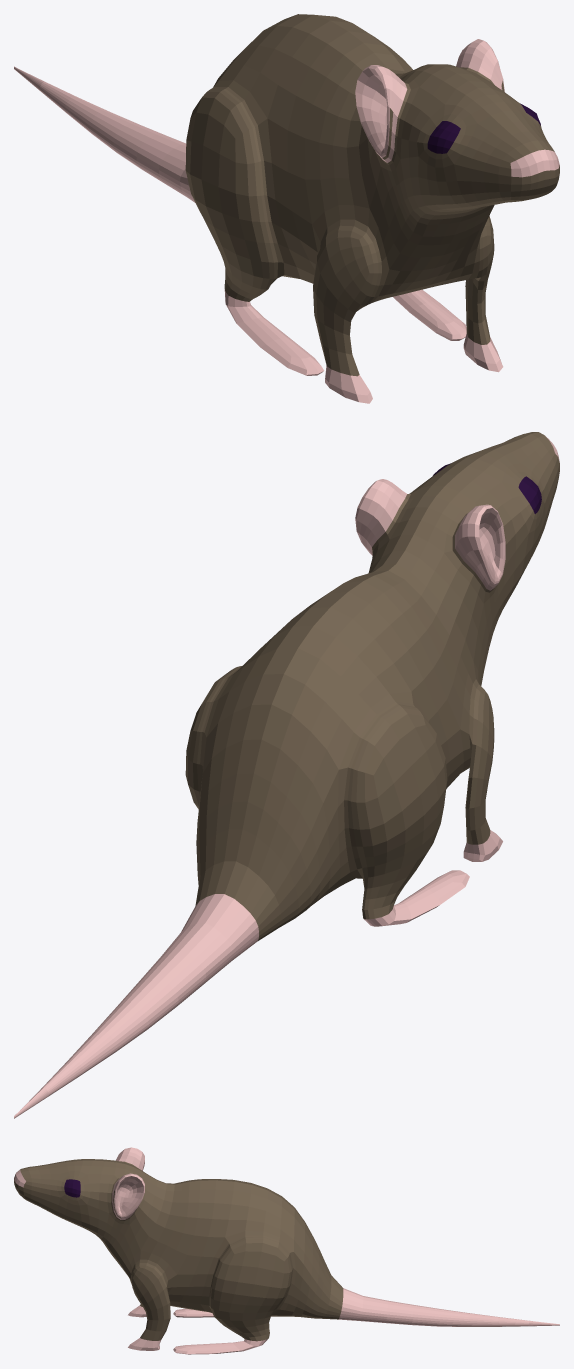
Rendered from Mouse_s_Model.fbx.
3 renders of one model, top to bottom at view 1: azimuth 30°, elevation 25°; view 2: azimuth 150°, elevation 25°; view 3: azimuth 270°, elevation 25°, orthographic. The views are drawn at different scales.
Visible parts, largest first — view 1: Cube; view 2: Cube; view 3: Cube.
Boxes of the visible parts, x1,y1,x2,y2 form: Cube: [14, 14, 559, 403]; Cube: [14, 432, 559, 1118]; Cube: [14, 1147, 559, 1354].
Size of the model in its own units: 101 by 148 by 423.
